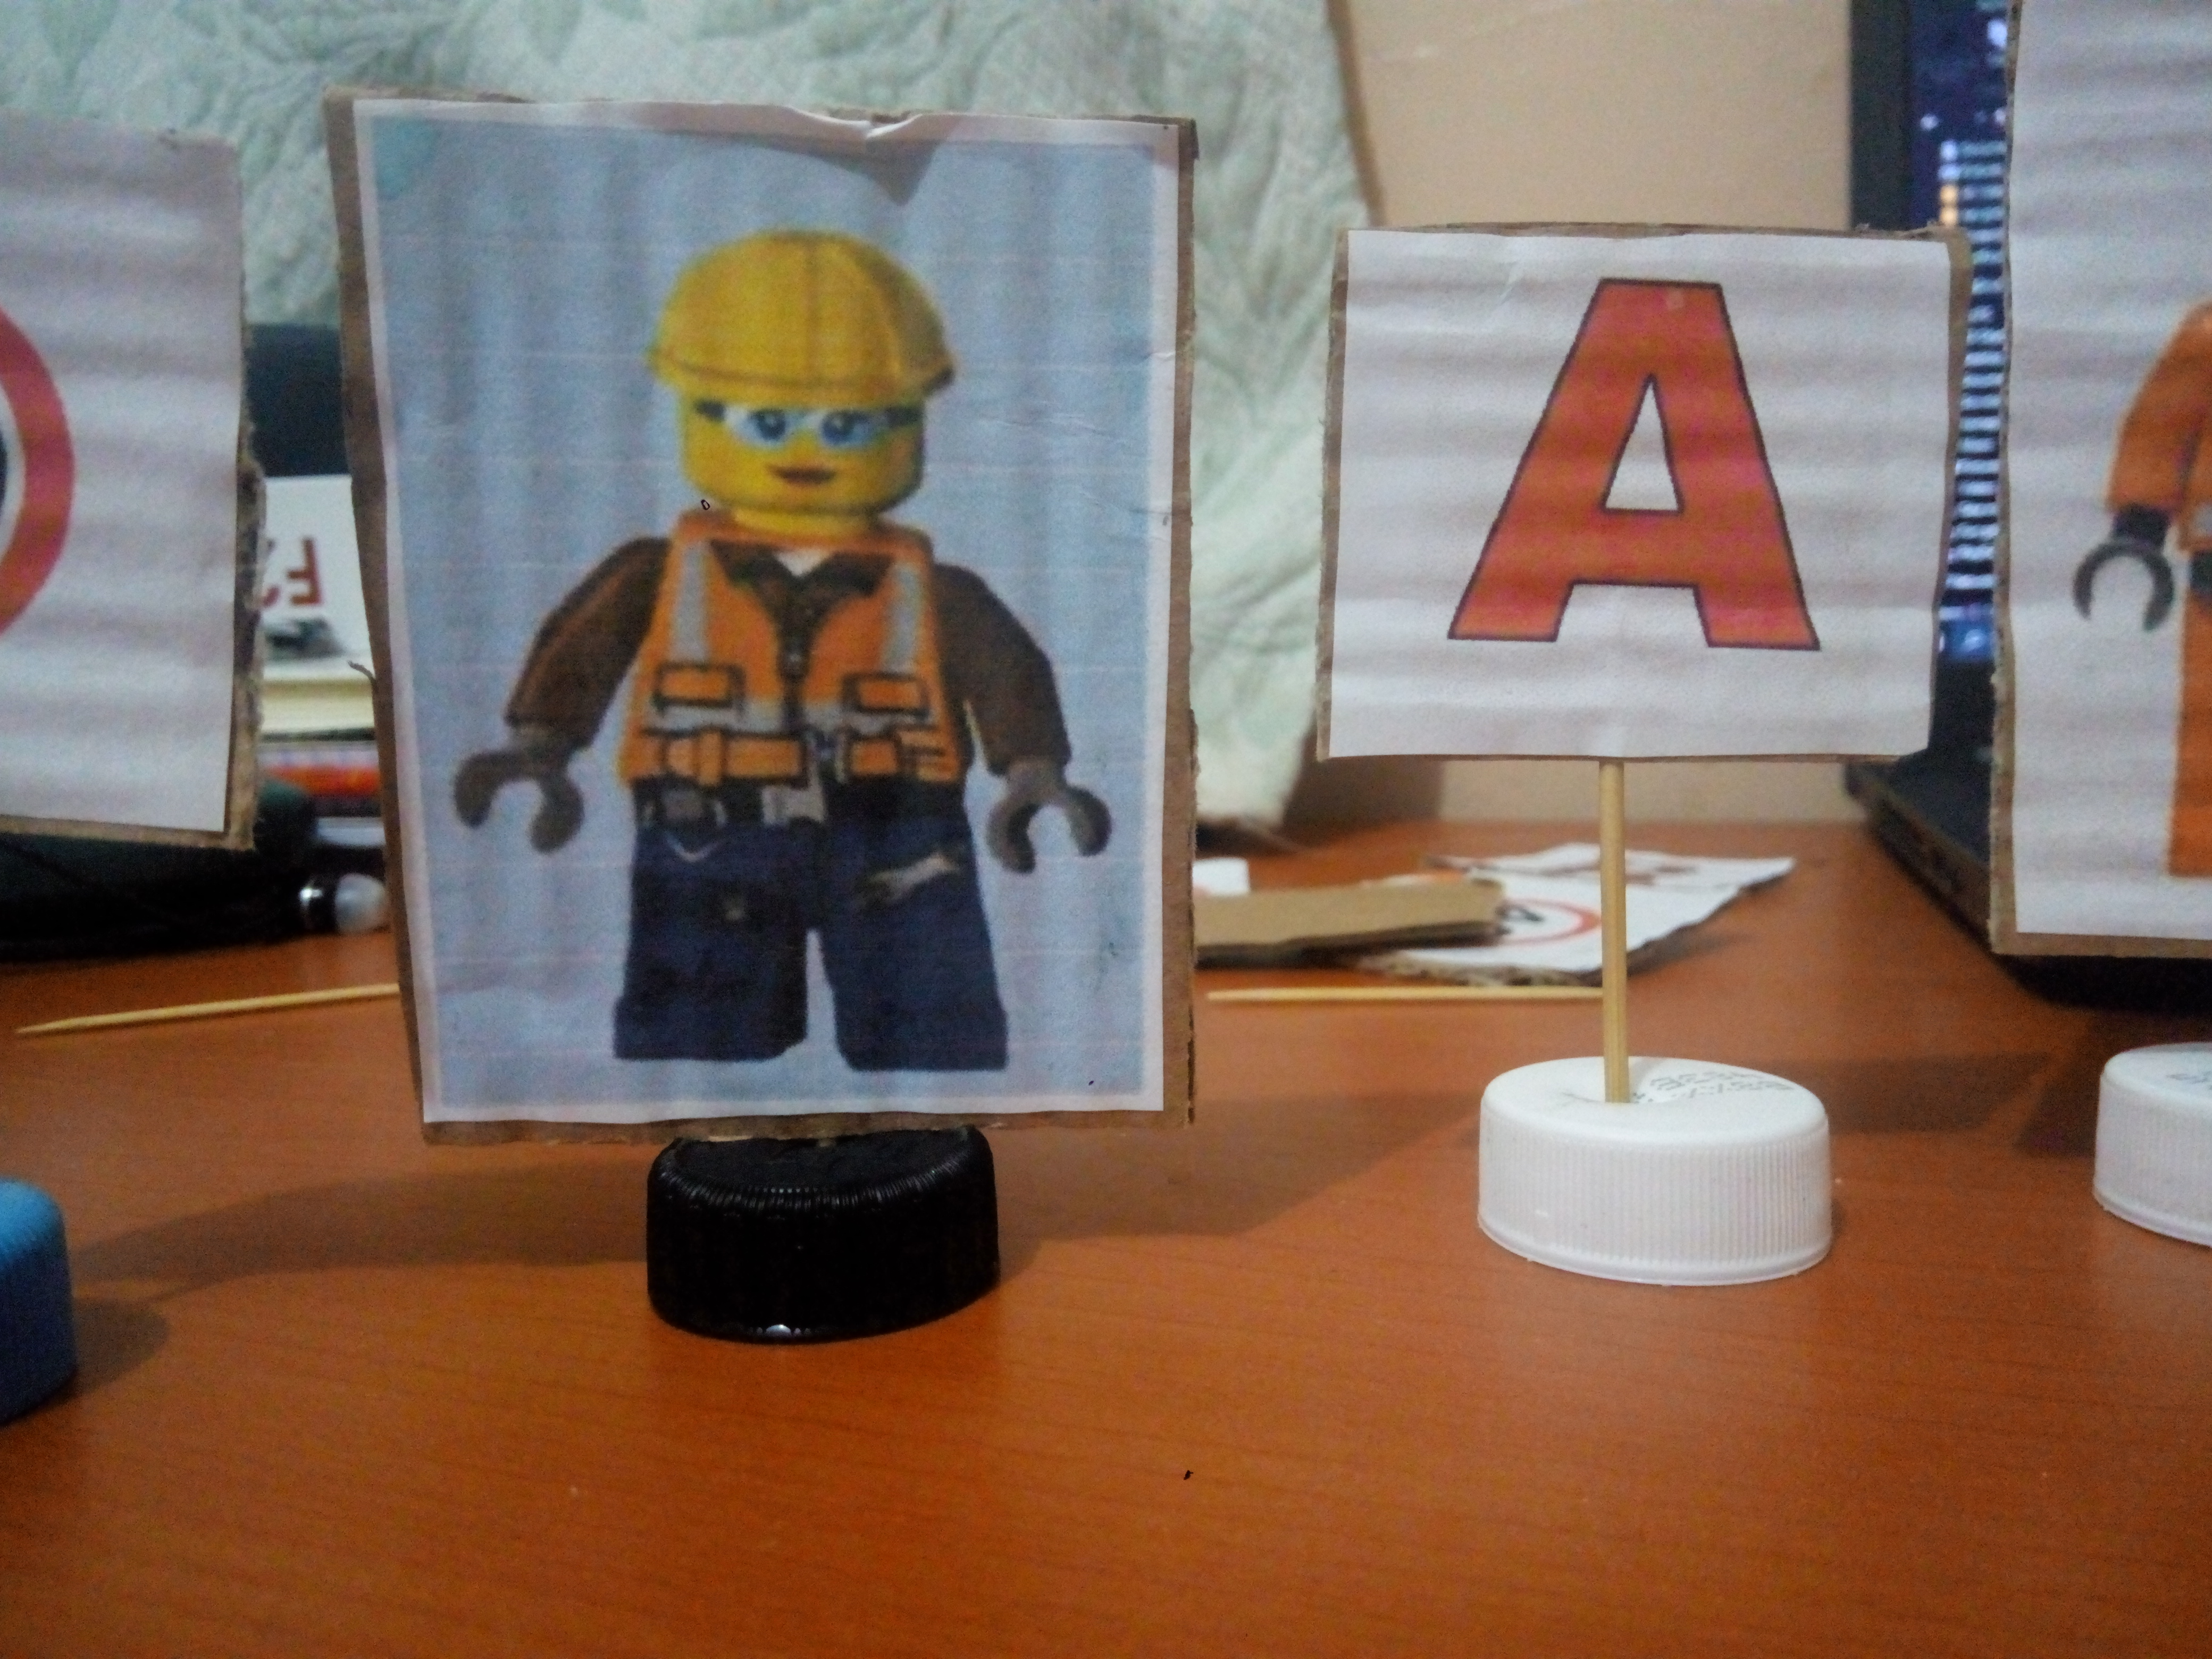pedestrian: (422, 183, 1126, 1082)
zone A: (1379, 257, 1865, 713)
